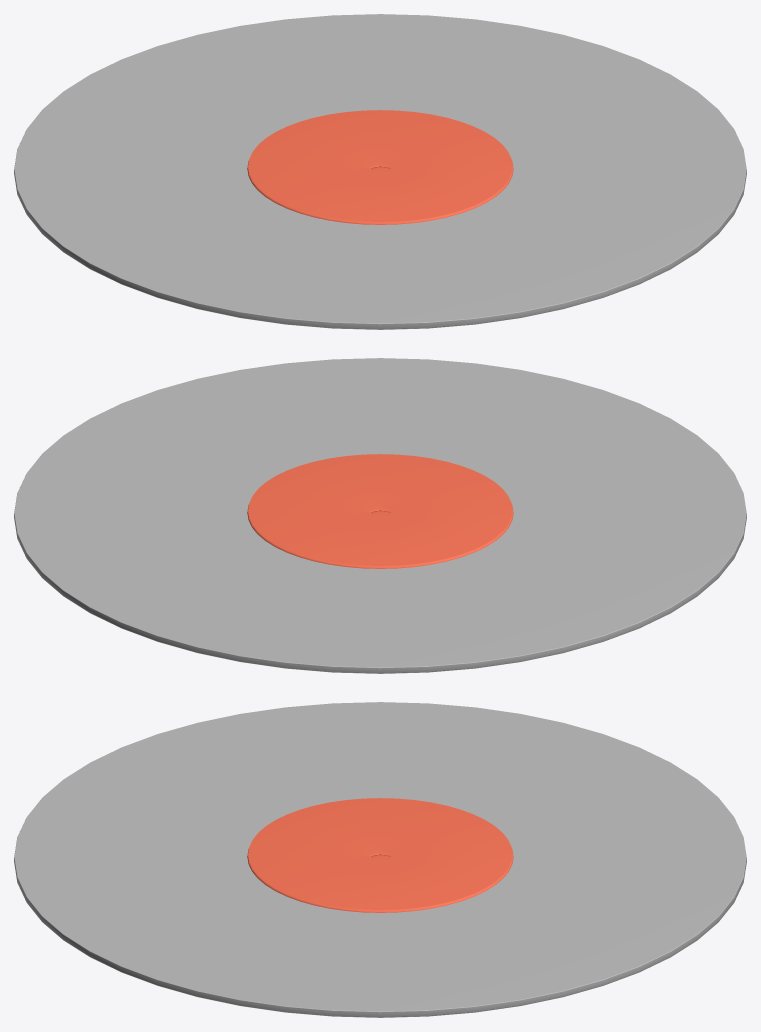
The model's file is Record_3.fbx.
The picture shows the model from 3 angles, top to bottom: view 1: azimuth 30°, elevation 25°; view 2: azimuth 150°, elevation 25°; view 3: azimuth 270°, elevation 25°; orthographic projection.
Parts seen in each view (by area): view 1: Record_3; view 2: Record_3; view 3: Record_3.
Part boxes in pixels (x1=…): Record_3: x1=14, y1=14, x2=746, y2=329; Record_3: x1=14, y1=358, x2=746, y2=673; Record_3: x1=14, y1=702, x2=746, y2=1017.
Size of the model in its own units: 0.4303 by 0.00782 by 0.4303.
